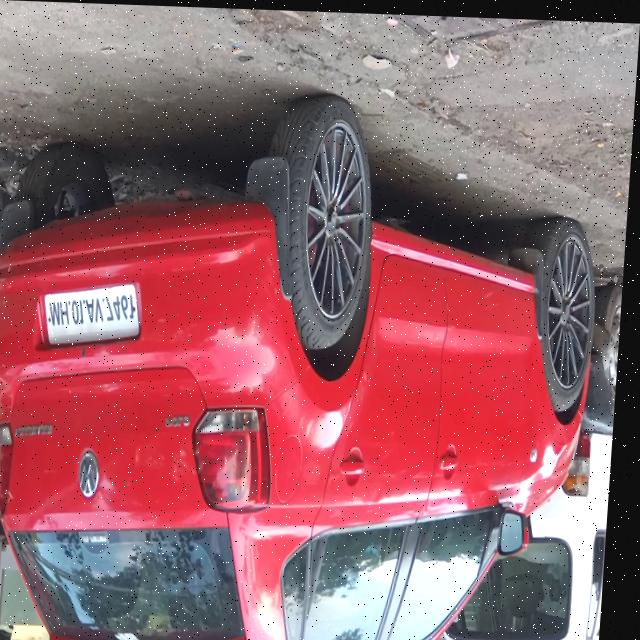plate: (45, 275, 146, 349)
